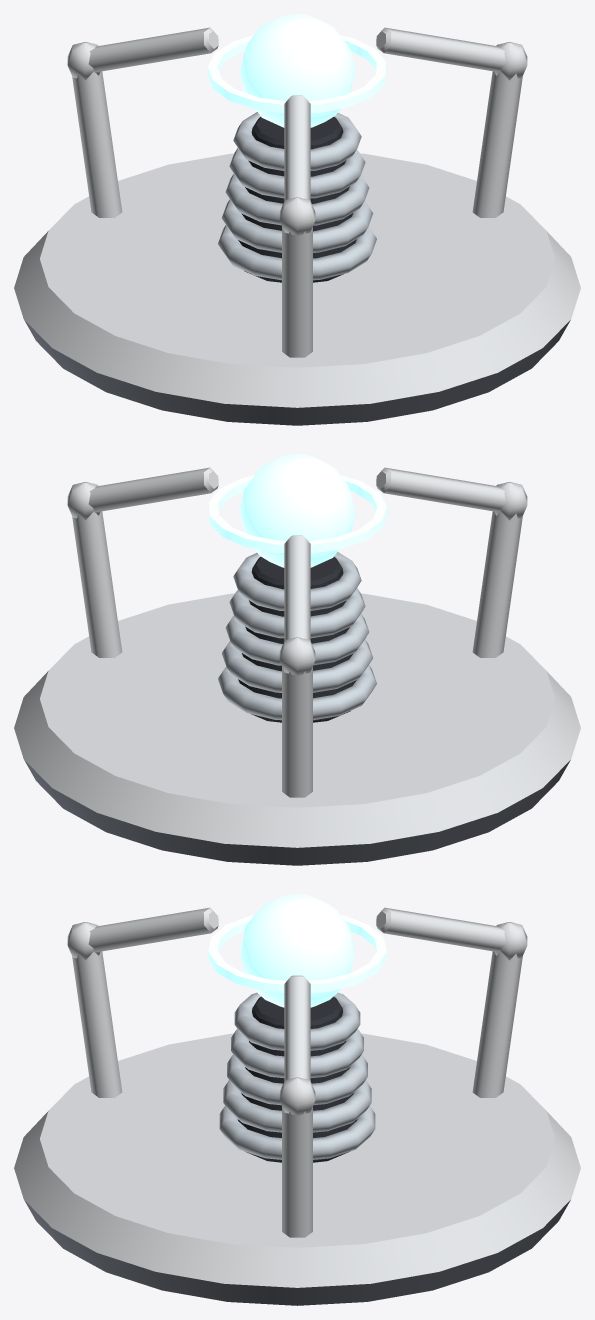
Rendered from R4D_EMPTrap.fbx.
3 views of the same model, one above another, from view 1: azimuth 30°, elevation 25°; view 2: azimuth 150°, elevation 25°; view 3: azimuth 270°, elevation 25° (orthographic).
Parts seen in each view (by area): view 1: R4D_EMPTrap_Body, R4D_EMPTrap_Core; view 2: R4D_EMPTrap_Body, R4D_EMPTrap_Core; view 3: R4D_EMPTrap_Body, R4D_EMPTrap_Core.
Part boxes in pixels (x1=…): R4D_EMPTrap_Body: x1=14, y1=27, x2=580, y2=425; R4D_EMPTrap_Core: x1=208, y1=14, x2=385, y2=127; R4D_EMPTrap_Body: x1=14, y1=467, x2=580, y2=865; R4D_EMPTrap_Core: x1=209, y1=454, x2=386, y2=567; R4D_EMPTrap_Body: x1=14, y1=907, x2=580, y2=1305; R4D_EMPTrap_Core: x1=208, y1=894, x2=386, y2=1007.
Size of the model in its own units: 0.44 by 0.25 by 0.44.
